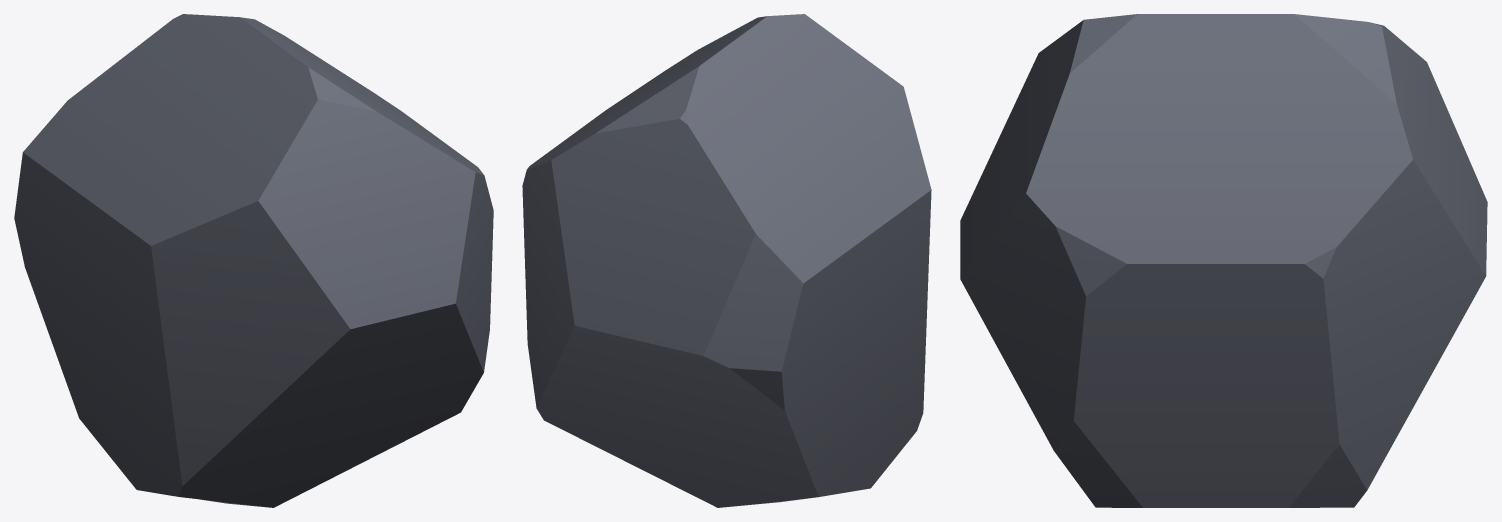
Rendered from Rock_08.fbx.
The picture shows the model from 3 angles, left to right: view 1: azimuth 30°, elevation 25°; view 2: azimuth 150°, elevation 25°; view 3: azimuth 270°, elevation 25°; orthographic projection. The views are drawn at different scales.
Visible parts, largest first — view 1: Rock_08; view 2: Rock_08; view 3: Rock_08.
Boxes of the visible parts, <box> form: Rock_08: <box>14,14,493,507</box>; Rock_08: <box>522,14,931,507</box>; Rock_08: <box>960,14,1487,507</box>.
Bounding box in the file's own units: 1.17 × 1.54 × 1.43.
